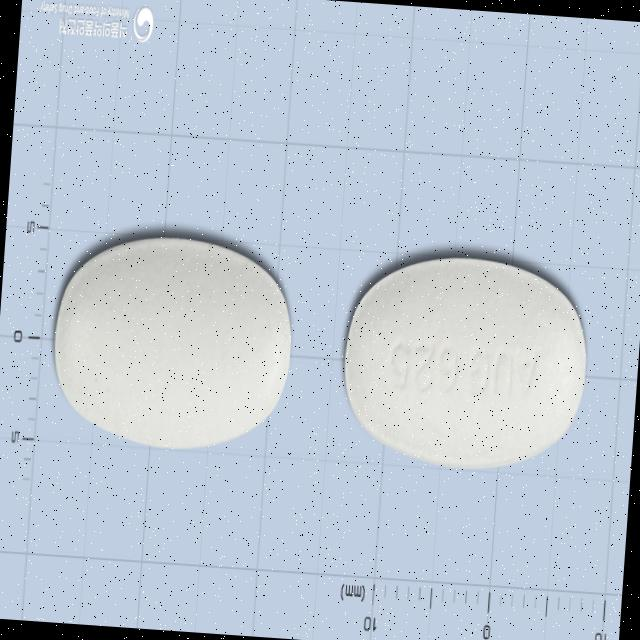Ilsung Augmentin: (336, 248, 593, 478)
